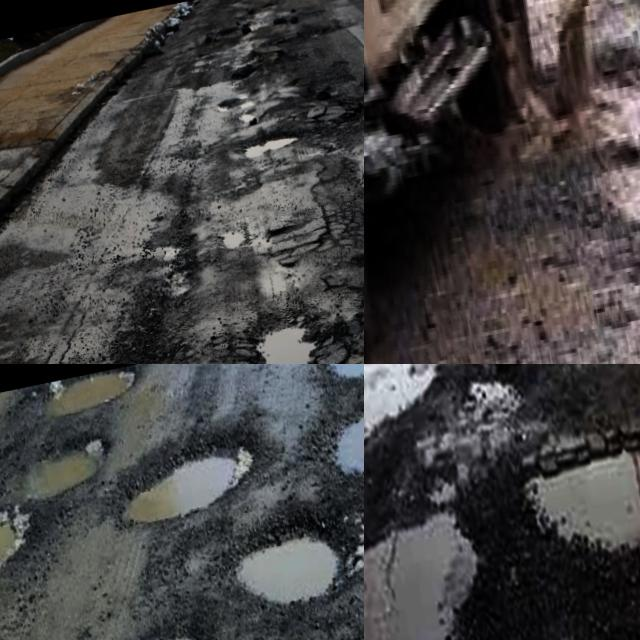Potholes: (494, 364, 640, 626), (82, 386, 291, 554), (160, 200, 364, 364), (364, 438, 527, 640), (422, 190, 587, 364), (209, 477, 364, 640), (209, 83, 364, 213), (364, 364, 501, 494), (0, 404, 119, 547), (0, 364, 157, 458), (170, 0, 314, 102), (573, 114, 640, 299), (66, 584, 246, 640), (586, 25, 640, 210), (303, 364, 364, 514)
